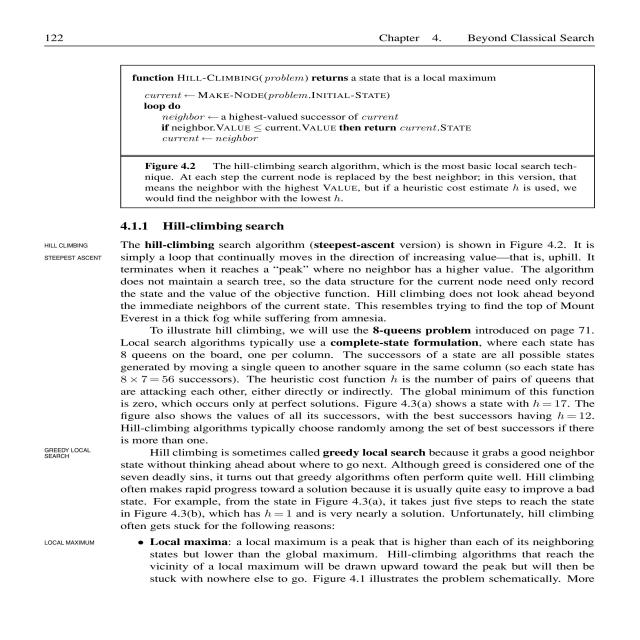diagram: (66, 48, 640, 204)
